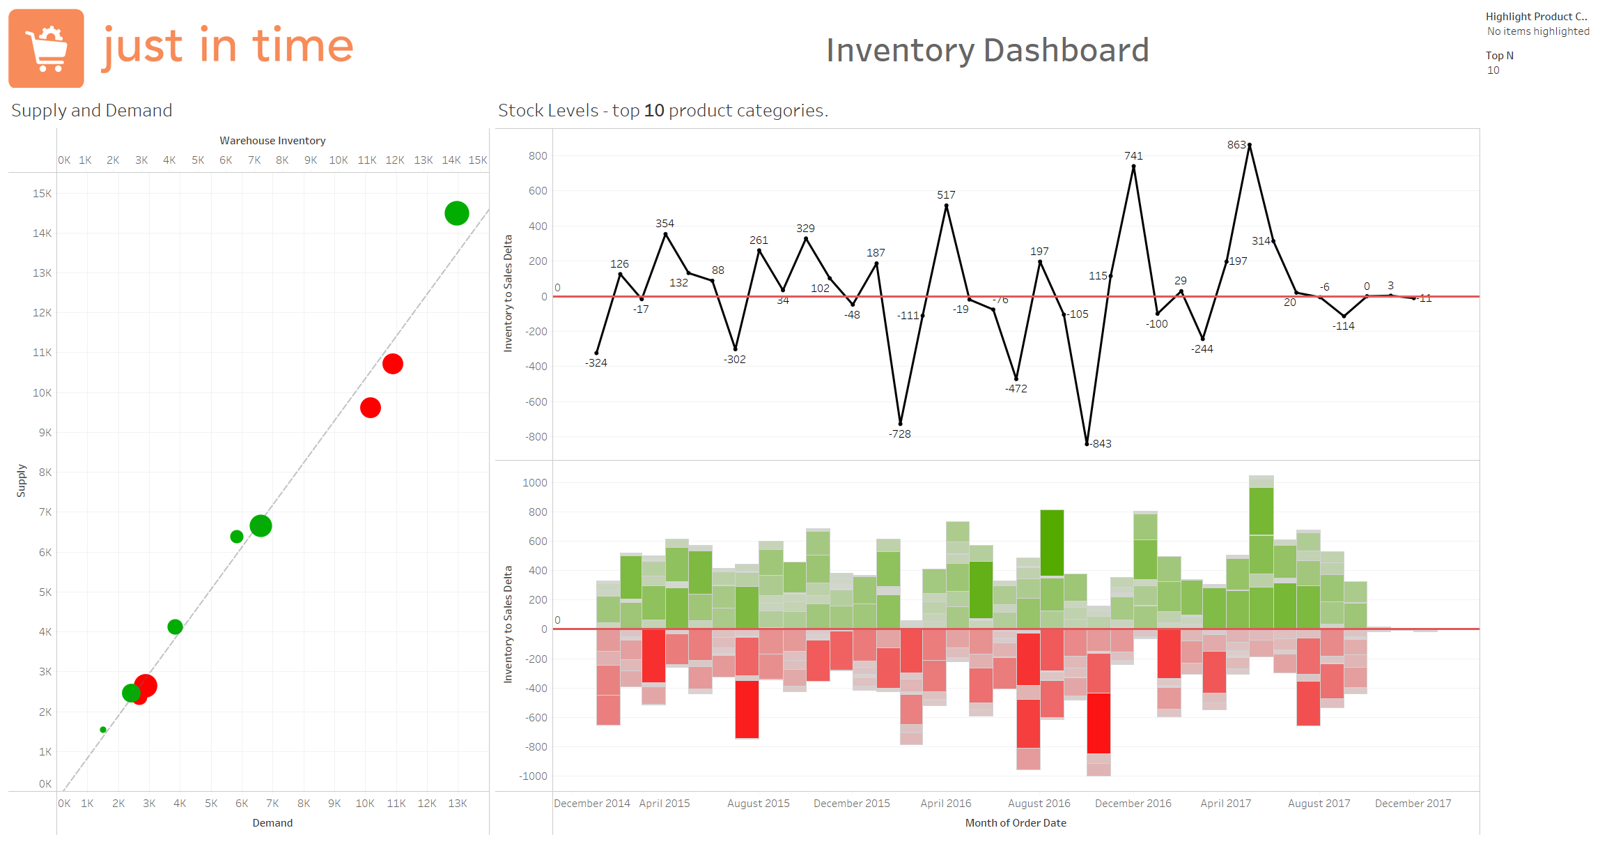

The page's visual inventory and layout, read from the dashboard file:
{"tool":"tableau","page":{"name":"Inventory Dashboard","canvas":[1000,1000],"units":"permille","ordinal":0},"visuals":[{"type":"image","param":"Image/Screenshot 2024-10-29 234917.png","box":[3.5,6.6,304.3,100.7]},{"type":"text","box":[307.8,6.6,619.1,100.7]},{"type":"highlighter","title":"Stock Levels","param":"[federated.1mttv9v1l45z6s1agd38s17aw9gs].[none:Product Category:nk]","box":[926.9,6.6,69.7,46.2]},{"type":"parameter","param":"[Parameters].[Parameter 1]","box":[926.9,52.9,69.7,65.2]},{"type":"worksheet","title":"Supply and Demand","mark":"Circle","rows":["Warehouse Inventory"],"cols":["Order Quantity","Warehouse Inventory"],"box":[3.5,107.3,304.3,886.1]},{"type":"worksheet","title":"Stock Levels","mark":"Automatic","rows":["Calculation_3115646526215794695","Calculation_3115646526215794695"],"cols":["Calculation_3115646525237395457"],"box":[307.8,107.3,619.1,886.1]}]}

Visuals, with their boxes on the dashboard's canvas, which has no fixed pixel size, in thousandths of its width and height (x1, y1, x2, y2). These are canvas units, not pixel positions in the 1600x844 screenshot, which may show the page scaled, cropped or inside an application window:
image: 4,7,308,107
text: 308,7,927,107
"Stock Levels" highlighter: 927,7,997,53
parameter: 927,53,997,118
"Supply and Demand" worksheet (Circle marks): 4,107,308,993
"Stock Levels" worksheet: 308,107,927,993
